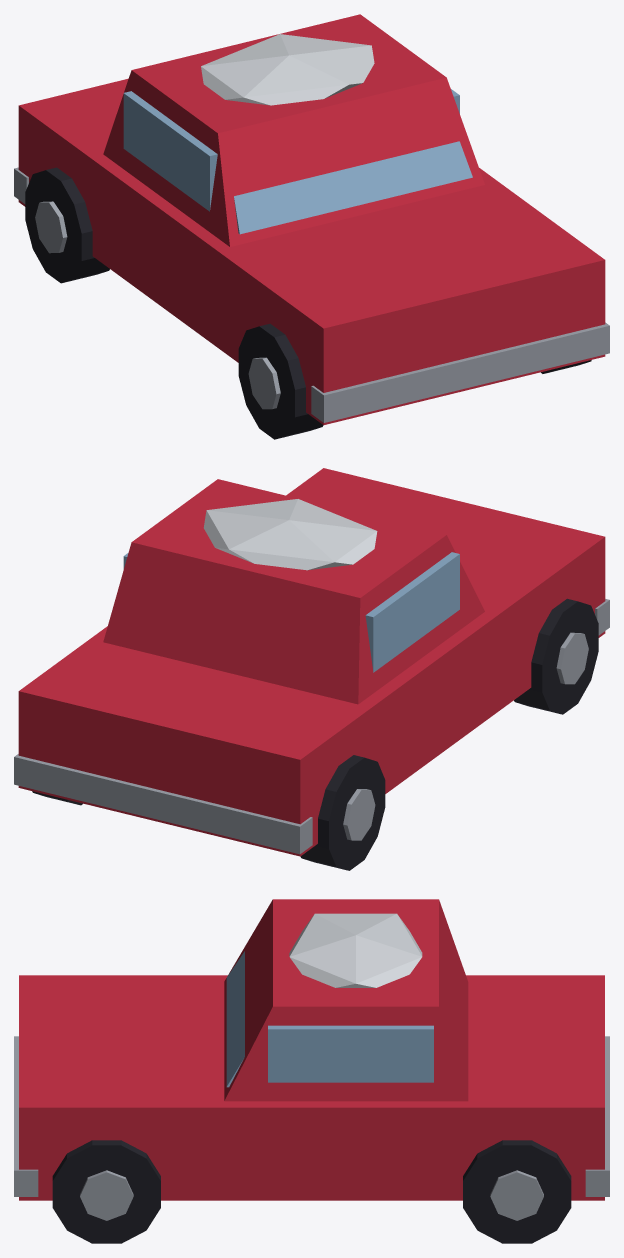
Rendered from Car_Red_Body.glb.
The picture shows the model from 3 angles, top to bottom: view 1: azimuth 30°, elevation 25°; view 2: azimuth 150°, elevation 25°; view 3: azimuth 270°, elevation 25°; orthographic projection. The views are drawn at different scales.
Visible parts, largest first — view 1: Car_Red_Body; view 2: Car_Red_Body; view 3: Car_Red_Body.
Part boxes in pixels (left/top/right/bottom): Car_Red_Body: left=14, top=14, right=609, bottom=439; Car_Red_Body: left=14, top=468, right=609, bottom=870; Car_Red_Body: left=14, top=899, right=609, bottom=1243.
Size of the model in its own units: 7.1 by 5.36 by 12.2.
